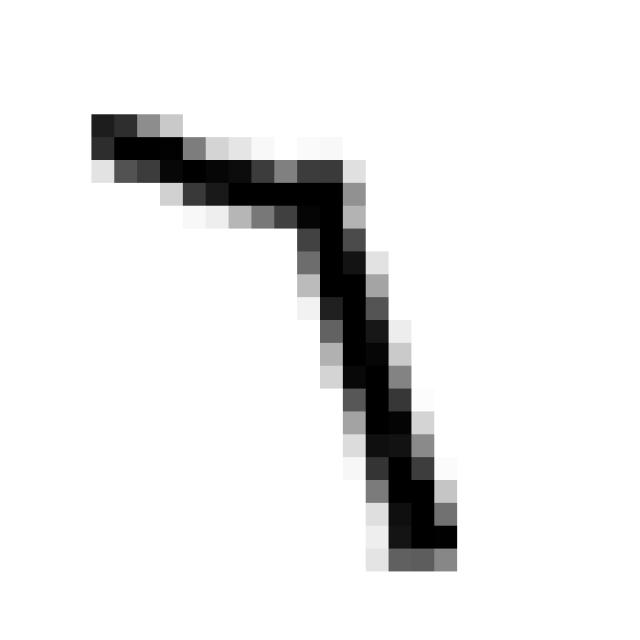6 -six-: (66, 94, 479, 589)
